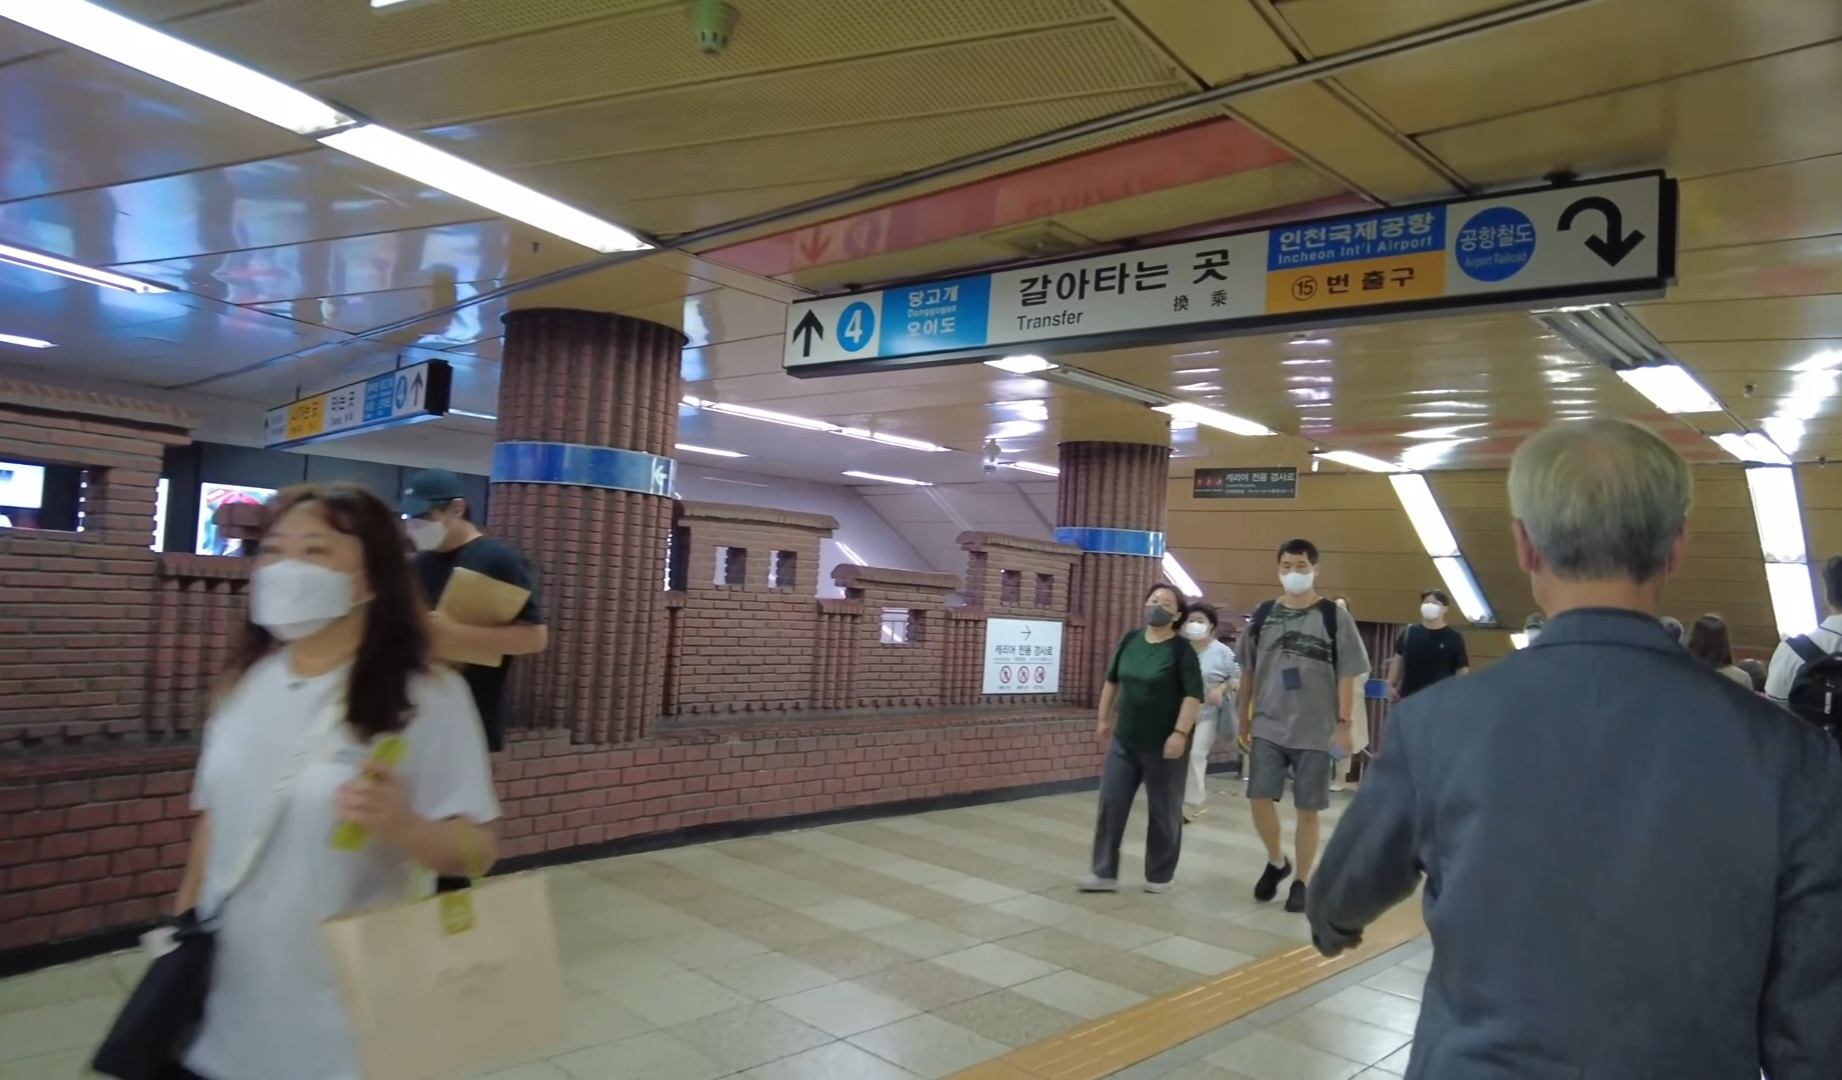signBoard: (767, 163, 1688, 382)
